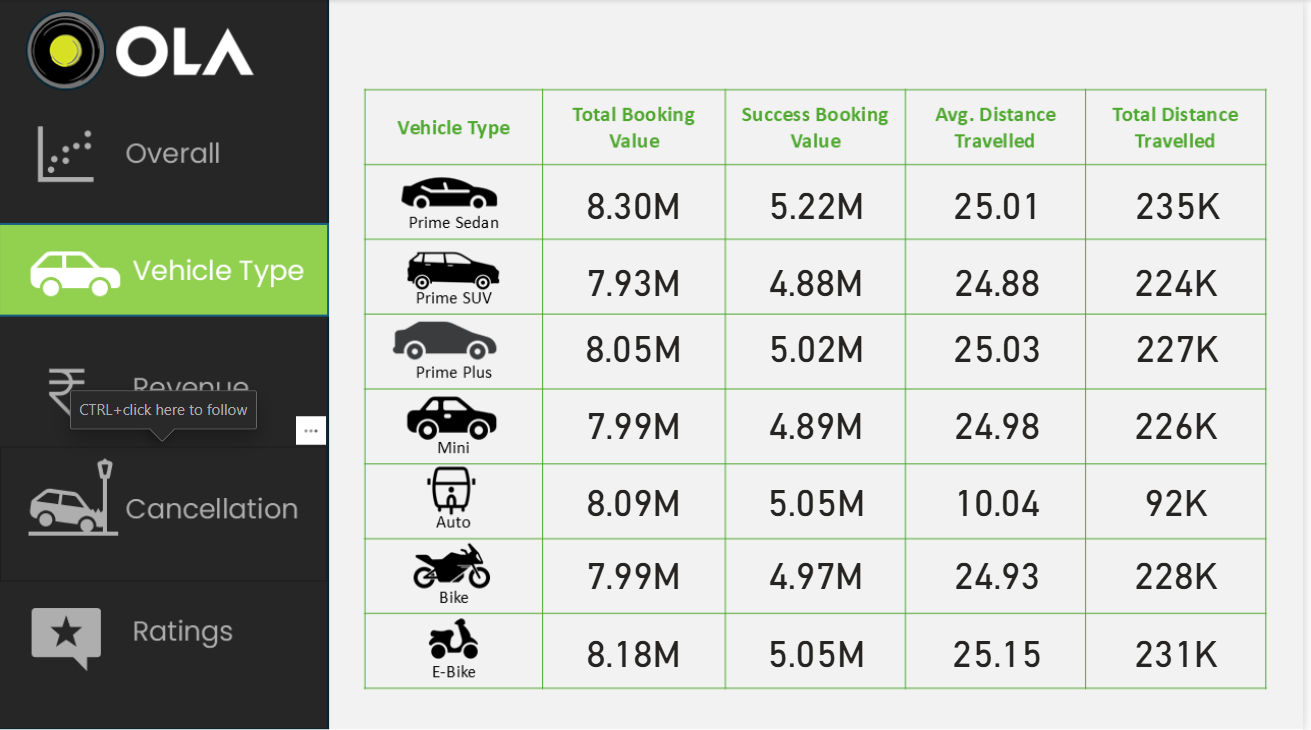

The dashboard page shown, as its layout file describes it:
{"tool":"powerbi","page":{"name":"Vehicle Type","canvas":[1280,720],"ordinal":1},"visuals":[{"type":"actionButton","box":[0,111.7,321.5,89.6],"z":0},{"type":"actionButton","box":[0,439.3,321.5,132.5],"z":1000},{"type":"actionButton","box":[0,333.7,321.5,105.5],"z":2000},{"type":"actionButton","box":[0,571.8,321.5,132.5],"z":3000},{"type":"card","fields":{"Values":["Sum(Bookings.Booking_Value)"]},"box":[532.5,242.5,178.8,65],"z":4000},{"type":"card","fields":{"Values":["Sum(Bookings.Booking_Value)"]},"box":[532.5,307.5,178.8,65],"z":5000},{"type":"card","fields":{"Values":["Sum(Bookings.Booking_Value)"]},"box":[532.5,383.8,178.8,65],"z":6000},{"type":"card","fields":{"Values":["Sum(Bookings.Booking_Value)"]},"box":[532.5,458.8,178.8,65],"z":7000},{"type":"card","fields":{"Values":["Sum(Bookings.Booking_Value)"]},"box":[532.5,531.2,178.8,65],"z":8000},{"type":"card","fields":{"Values":["Sum(Bookings.Booking_Value)"]},"box":[532.5,607.5,178.8,65],"z":9000},{"type":"card","fields":{"Values":["Sum(Bookings.Booking_Value)"]},"box":[711.2,167.5,178.8,65],"z":10000},{"type":"card","fields":{"Values":["Sum(Bookings.Booking_Value)"]},"box":[711.2,242.5,178.8,65],"z":11000},{"type":"card","fields":{"Values":["Sum(Bookings.Booking_Value)"]},"box":[711.2,307.5,178.8,65],"z":12000},{"type":"card","fields":{"Values":["Sum(Bookings.Booking_Value)"]},"box":[711.2,383.8,178.8,65],"z":13000},{"type":"card","fields":{"Values":["Sum(Bookings.Booking_Value)"]},"box":[711.2,458.8,178.8,65],"z":14000},{"type":"card","fields":{"Values":["Sum(Bookings.Booking_Value)"]},"box":[711.2,531.2,178.8,65],"z":15000},{"type":"card","fields":{"Values":["Sum(Bookings.Booking_Value)"]},"box":[711.2,607.5,178.8,65],"z":16000},{"type":"card","fields":{"Values":["Avg(Bookings.Ride_Distance)"]},"box":[890,167.5,178.8,65],"z":17000},{"type":"card","fields":{"Values":["Avg(Bookings.Ride_Distance)"]},"box":[890,242.5,178.8,65],"z":18000},{"type":"card","fields":{"Values":["Avg(Bookings.Ride_Distance)"]},"box":[890,307.5,178.8,65],"z":19000},{"type":"card","fields":{"Values":["Avg(Bookings.Ride_Distance)"]},"box":[890,383.8,178.8,65],"z":20000},{"type":"card","fields":{"Values":["Avg(Bookings.Ride_Distance)"]},"box":[890,458.8,178.8,65],"z":21000},{"type":"card","fields":{"Values":["Avg(Bookings.Ride_Distance)"]},"box":[890,531.2,178.8,65],"z":22000},{"type":"card","fields":{"Values":["Avg(Bookings.Ride_Distance)"]},"box":[890,607.5,178.8,65],"z":23000},{"type":"card","fields":{"Values":["Sum(Bookings.Ride_Distance)"]},"box":[1068.8,167.5,175,65],"z":24000},{"type":"card","fields":{"Values":["Sum(Bookings.Ride_Distance)"]},"box":[1065,242.5,178.8,65],"z":25000},{"type":"card","fields":{"Values":["Sum(Bookings.Ride_Distance)"]},"box":[1066.2,307.5,178.8,65],"z":26000},{"type":"card","fields":{"Values":["Sum(Bookings.Ride_Distance)"]},"box":[1065,383.8,178.8,65],"z":27000},{"type":"card","fields":{"Values":["Sum(Bookings.Ride_Distance)"]},"box":[1065,458.8,178.8,65],"z":28000},{"type":"card","fields":{"Values":["Sum(Bookings.Ride_Distance)"]},"box":[1065,531.2,178.8,65],"z":29000},{"type":"card","fields":{"Values":["Sum(Bookings.Ride_Distance)"]},"box":[1065,607.5,178.8,65],"z":30000},{"type":"card","fields":{"Values":["Sum(Bookings.Booking_Value)"]},"box":[532.5,167.5,178.8,65],"z":31000}]}

Visuals, with their boxes on the page's 1280x720 design canvas (x1, y1, x2, y2). These are canvas units, not pixel positions in the 1311x730 screenshot, which may show the page scaled, cropped or inside an application window:
actionButton: (x1=0, y1=112, x2=322, y2=201)
actionButton: (x1=0, y1=439, x2=322, y2=572)
actionButton: (x1=0, y1=334, x2=322, y2=439)
actionButton: (x1=0, y1=572, x2=322, y2=704)
card - Sum(Bookings.Booking_Value): (x1=532, y1=242, x2=711, y2=308)
card - Sum(Bookings.Booking_Value): (x1=532, y1=308, x2=711, y2=372)
card - Sum(Bookings.Booking_Value): (x1=532, y1=384, x2=711, y2=449)
card - Sum(Bookings.Booking_Value): (x1=532, y1=459, x2=711, y2=524)
card - Sum(Bookings.Booking_Value): (x1=532, y1=531, x2=711, y2=596)
card - Sum(Bookings.Booking_Value): (x1=532, y1=608, x2=711, y2=672)
card - Sum(Bookings.Booking_Value): (x1=711, y1=168, x2=890, y2=232)
card - Sum(Bookings.Booking_Value): (x1=711, y1=242, x2=890, y2=308)
card - Sum(Bookings.Booking_Value): (x1=711, y1=308, x2=890, y2=372)
card - Sum(Bookings.Booking_Value): (x1=711, y1=384, x2=890, y2=449)
card - Sum(Bookings.Booking_Value): (x1=711, y1=459, x2=890, y2=524)
card - Sum(Bookings.Booking_Value): (x1=711, y1=531, x2=890, y2=596)
card - Sum(Bookings.Booking_Value): (x1=711, y1=608, x2=890, y2=672)
card - Avg(Bookings.Ride_Distance): (x1=890, y1=168, x2=1069, y2=232)
card - Avg(Bookings.Ride_Distance): (x1=890, y1=242, x2=1069, y2=308)
card - Avg(Bookings.Ride_Distance): (x1=890, y1=308, x2=1069, y2=372)
card - Avg(Bookings.Ride_Distance): (x1=890, y1=384, x2=1069, y2=449)
card - Avg(Bookings.Ride_Distance): (x1=890, y1=459, x2=1069, y2=524)
card - Avg(Bookings.Ride_Distance): (x1=890, y1=531, x2=1069, y2=596)
card - Avg(Bookings.Ride_Distance): (x1=890, y1=608, x2=1069, y2=672)
card - Sum(Bookings.Ride_Distance): (x1=1069, y1=168, x2=1244, y2=232)
card - Sum(Bookings.Ride_Distance): (x1=1065, y1=242, x2=1244, y2=308)
card - Sum(Bookings.Ride_Distance): (x1=1066, y1=308, x2=1245, y2=372)
card - Sum(Bookings.Ride_Distance): (x1=1065, y1=384, x2=1244, y2=449)
card - Sum(Bookings.Ride_Distance): (x1=1065, y1=459, x2=1244, y2=524)
card - Sum(Bookings.Ride_Distance): (x1=1065, y1=531, x2=1244, y2=596)
card - Sum(Bookings.Ride_Distance): (x1=1065, y1=608, x2=1244, y2=672)
card - Sum(Bookings.Booking_Value): (x1=532, y1=168, x2=711, y2=232)
